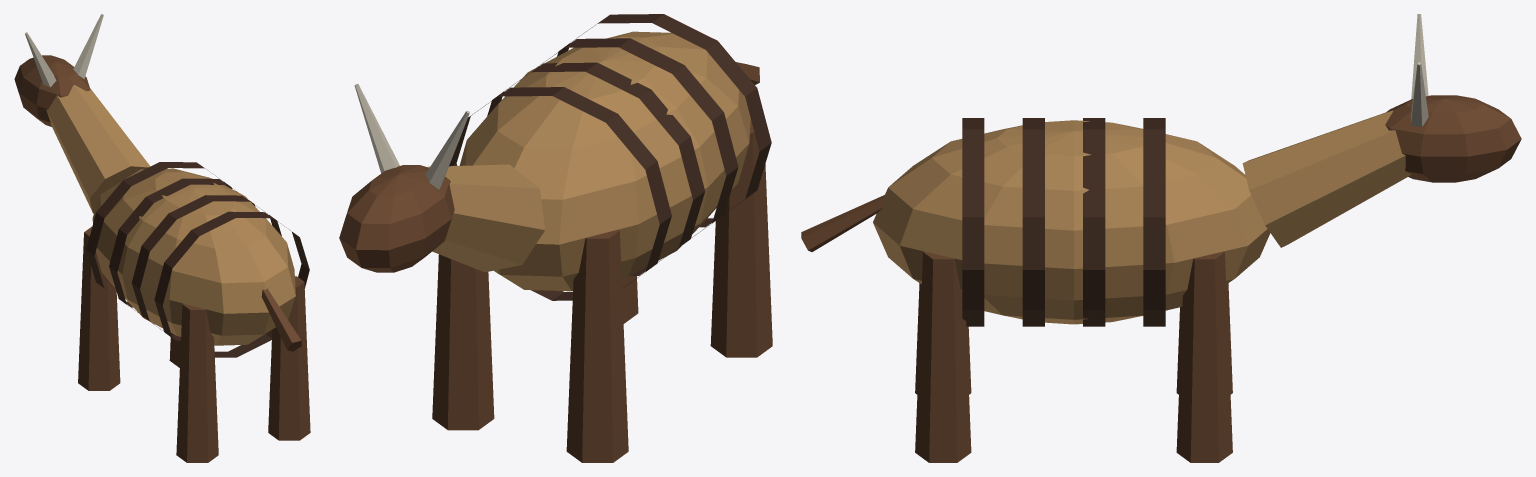
The model's file is grazer.glb.
3 renders of one model, left to right at view 1: azimuth 30°, elevation 25°; view 2: azimuth 150°, elevation 25°; view 3: azimuth 270°, elevation 25°, orthographic. The views are drawn at different scales.
Parts seen in each view (by area): view 1: grazer; view 2: grazer; view 3: grazer.
Boxes of the visible parts, x1,y1,x2,y2 form: grazer: (14, 14, 310, 462); grazer: (339, 14, 772, 462); grazer: (801, 14, 1521, 462).
Bounding box in the file's own units: 2.24 × 4.22 × 7.16.
